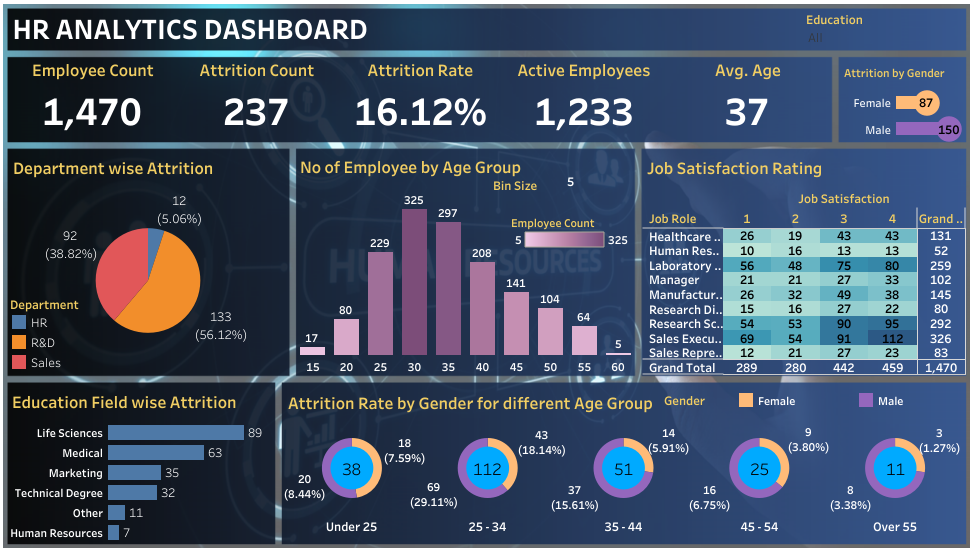

Layout of this report page (visuals, bound fields, positions):
{"tool":"tableau","page":{"name":"HR Dashboard","canvas":[1066,568],"ordinal":0},"visuals":[{"type":"image","param":"D:/Portfolio_Projects/04_Tableau/02_HR_Dashboard/HR background.png","box":[8,8,1050,552]},{"type":"filter","title":"Department wise Attrition","param":"[federated.0dslacd0qqbmei185bp3j0tpipz6].[none:Education:nk]","box":[852,17,160,138]},{"type":"text","box":[56,21,398,30]},{"type":"worksheet","title":"KPI","mark":"Automatic","box":[57,67,819,81]},{"type":"worksheet","title":"Attrition by Gender","mark":"Automatic","rows":["Gender"],"cols":["Calculation_883268521734025216","Calculation_883268521734025216"],"box":[886,67,125,83]},{"type":"worksheet","title":"No of Employee by Age Group","mark":"Automatic","rows":["Employee Count"],"cols":["Age (bin)"],"box":[342,157,339,226]},{"type":"worksheet","title":"Department wise Attrition","mark":"Pie","box":[55,158,278,223]},{"type":"worksheet","title":"Job Satisfaction Rating","mark":"Square","rows":["Job Role"],"cols":["Job Satisfaction"],"box":[689,158,323,225]},{"type":"parameter","param":"[Parameters].[Parameter 1]","box":[539,180,142,25]},{"type":"legend","title":"No of Employee by Age Group","param":"[federated.0dslacd0qqbmei185bp3j0tpipz6].[sum:Employee Count:qk]","box":[557,219,122,41]},{"type":"legend","title":"Department wise Attrition","param":"[federated.0dslacd0qqbmei185bp3j0tpipz6].[none:Department:nk]","box":[55,301,78,81]},{"type":"worksheet","title":"Education Field wise Attrition","mark":"Automatic","rows":["Education Field"],"cols":["Calculation_883268521734025216"],"box":[54,392,266,159]},{"type":"worksheet","title":"Attrition Rate by Gender for different Age Group","mark":"Pie","rows":["Calculation_146085558038962177","Calculation_146085558038962177"],"cols":["CF_age band"],"box":[330,393,679,158]},{"type":"legend","title":"Attrition Rate by Gender for different Age Group","param":"[federated.0dslacd0qqbmei185bp3j0tpipz6].[none:Gender:nk]","box":[710,398,296,28]}]}

Visuals, with their boxes in screenshot pixels (x1, y1, x2, y2):
image: [x1=0, y1=5, x2=971, y2=540]
"Department wise Attrition" filter: [x1=772, y1=14, x2=927, y2=148]
text: [x1=1, y1=18, x2=386, y2=47]
"KPI" worksheet: [x1=2, y1=62, x2=795, y2=141]
"Attrition by Gender" worksheet: [x1=805, y1=62, x2=926, y2=143]
"No of Employee by Age Group" worksheet: [x1=278, y1=150, x2=606, y2=368]
"Department wise Attrition" worksheet (Pie marks): [x1=0, y1=150, x2=269, y2=366]
"Job Satisfaction Rating" worksheet (Square marks): [x1=614, y1=150, x2=927, y2=368]
parameter: [x1=469, y1=172, x2=606, y2=196]
"No of Employee by Age Group" legend: [x1=486, y1=210, x2=604, y2=249]
"Department wise Attrition" legend: [x1=0, y1=289, x2=76, y2=367]
"Education Field wise Attrition" worksheet: [x1=0, y1=377, x2=257, y2=531]
"Attrition Rate by Gender for different Age Group" worksheet (Pie marks): [x1=266, y1=378, x2=924, y2=531]
"Attrition Rate by Gender for different Age Group" legend: [x1=634, y1=383, x2=921, y2=410]
